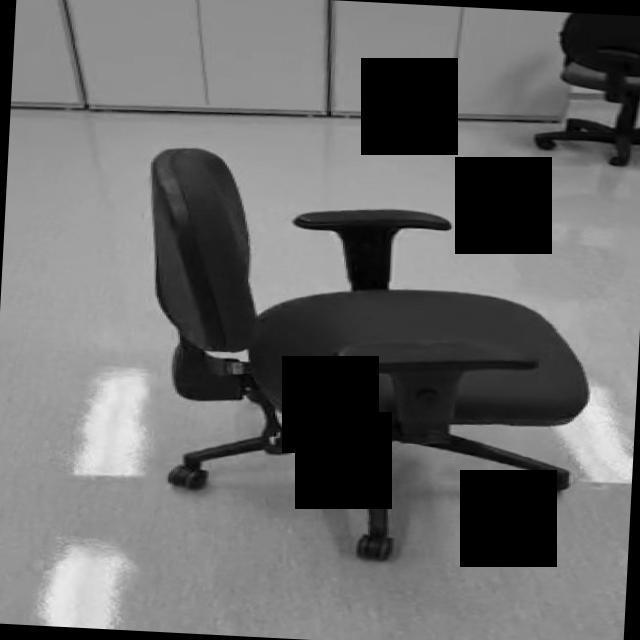chair: (132, 146, 603, 574)
